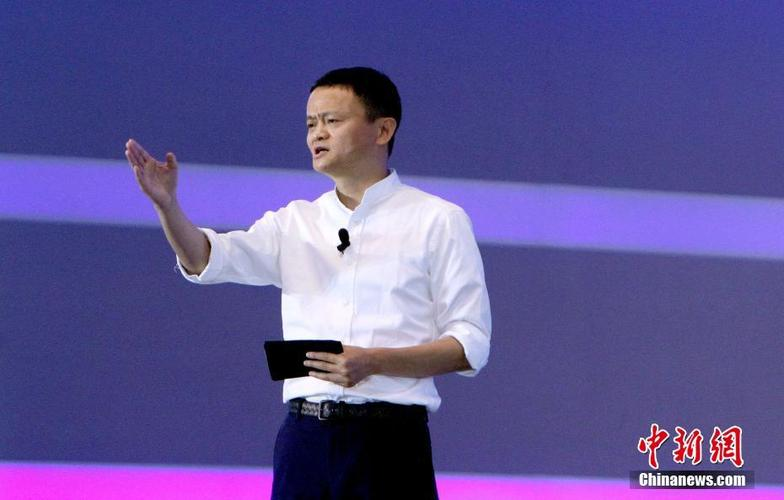no-phone: (119, 134, 181, 209)
